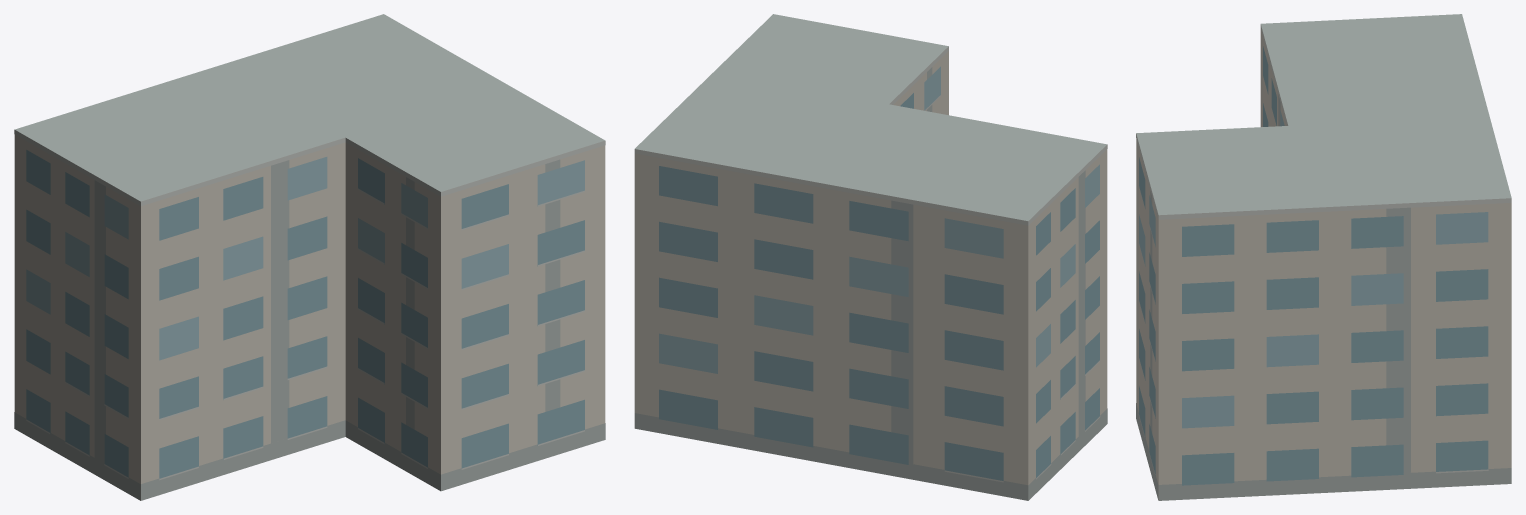
Rendered from residential-53c8fec0-60e7-4749-907a-c6ce19a6f7ed.glb.
3 renders of one model, left to right at view 1: azimuth 30°, elevation 25°; view 2: azimuth 150°, elevation 25°; view 3: azimuth 270°, elevation 25°, orthographic. The views are drawn at different scales.
Parts seen in each view (by area): view 1: residential-53c8fec0-60e7-4749-907a-c6ce19a6f7ed.tmp; view 2: residential-53c8fec0-60e7-4749-907a-c6ce19a6f7ed.tmp; view 3: residential-53c8fec0-60e7-4749-907a-c6ce19a6f7ed.tmp.
Part boxes in pixels (x1,y1,x2,y2): residential-53c8fec0-60e7-4749-907a-c6ce19a6f7ed.tmp: (14, 14, 605, 500); residential-53c8fec0-60e7-4749-907a-c6ce19a6f7ed.tmp: (634, 14, 1107, 500); residential-53c8fec0-60e7-4749-907a-c6ce19a6f7ed.tmp: (1136, 14, 1511, 500).
Bounding box in the file's own units: 23.04 × 15.25 × 18.18.
